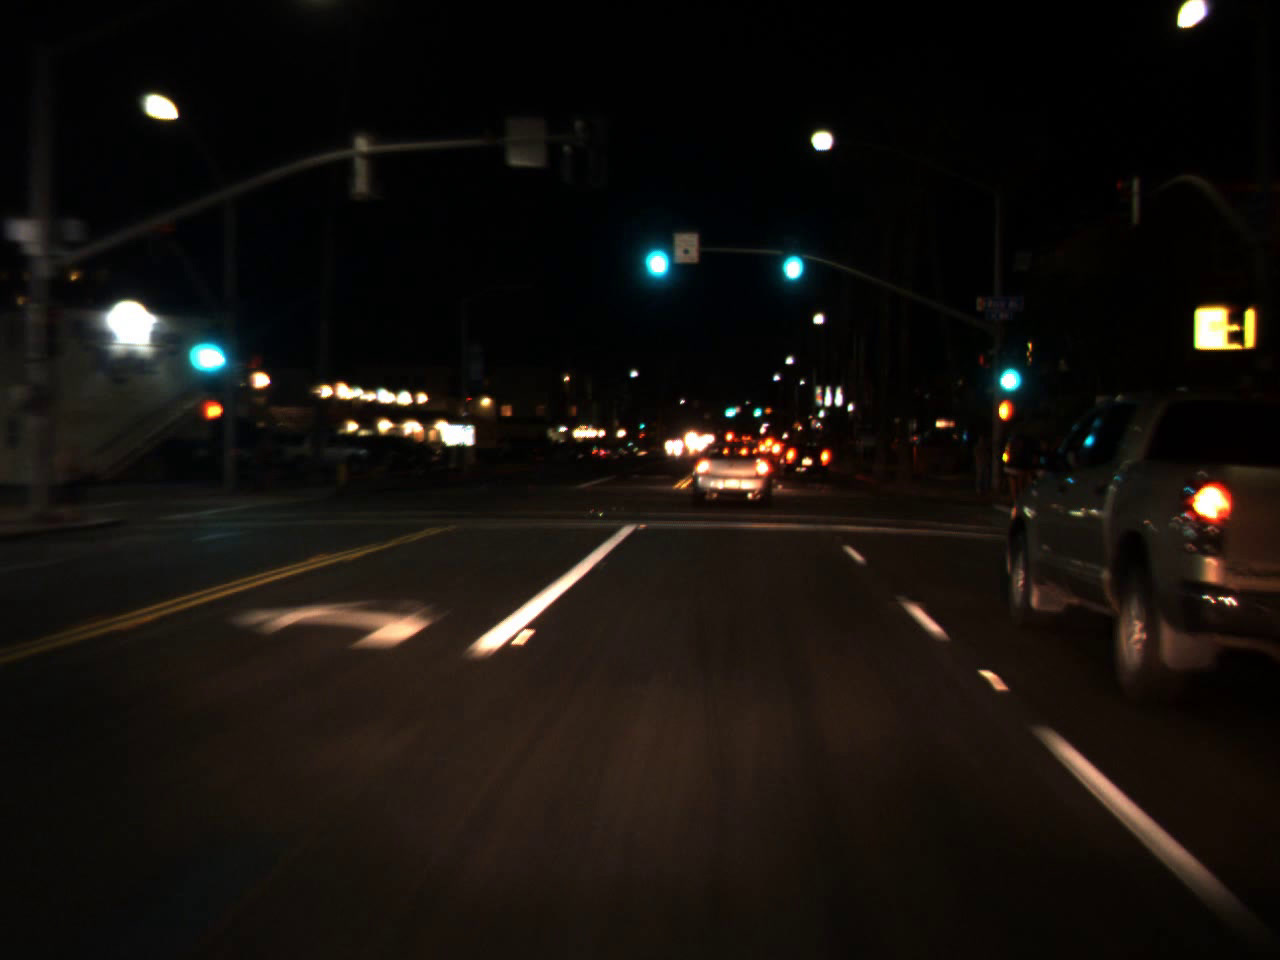go: (180, 306, 232, 384), (635, 213, 674, 288), (990, 337, 1026, 400), (775, 227, 807, 287), (722, 401, 736, 416), (751, 401, 761, 416), (638, 418, 645, 430)
